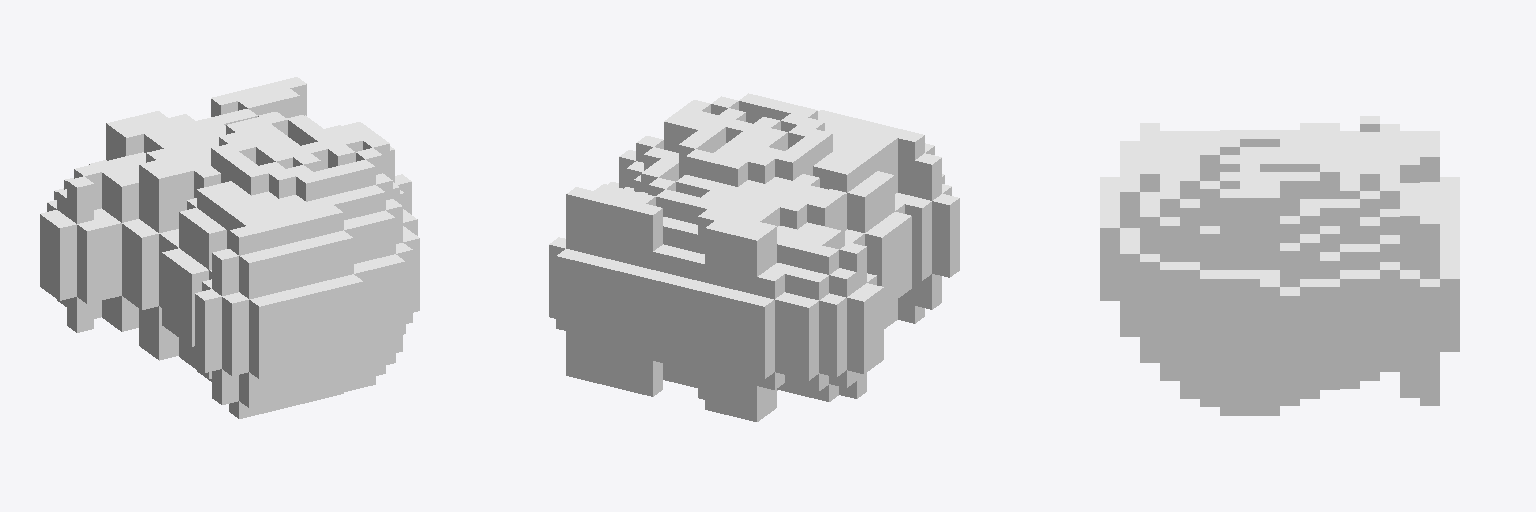
The model's file is maita.obj.
3 renders of one model, left to right at view 1: azimuth 30°, elevation 25°; view 2: azimuth 150°, elevation 25°; view 3: azimuth 270°, elevation 25°, orthographic.
Visible parts, largest first — view 1: object 1; view 2: object 1; view 3: object 1.
Boxes of the visible parts, x1=… form: object 1: x1=40, y1=77, x2=419, y2=418; object 1: x1=549, y1=93, x2=959, y2=421; object 1: x1=1100, y1=116, x2=1459, y2=415.
Size of the model in its own units: 1.8 by 1.2 by 1.8.